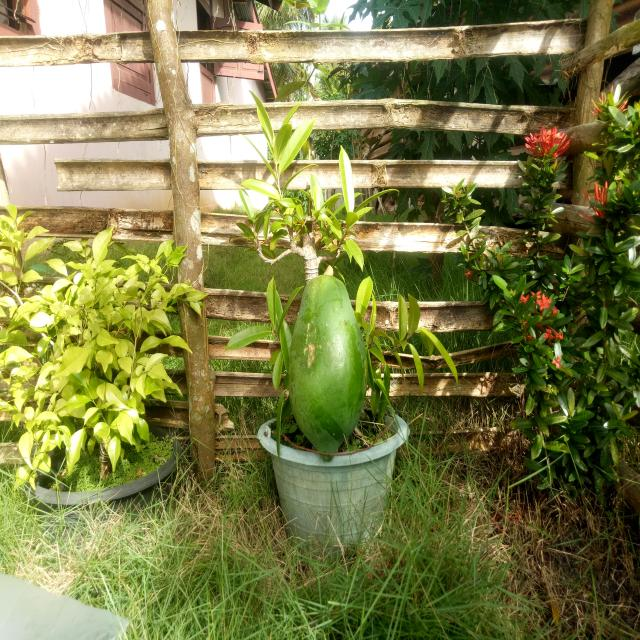Pepaya unrippen: (274, 267, 373, 458)
